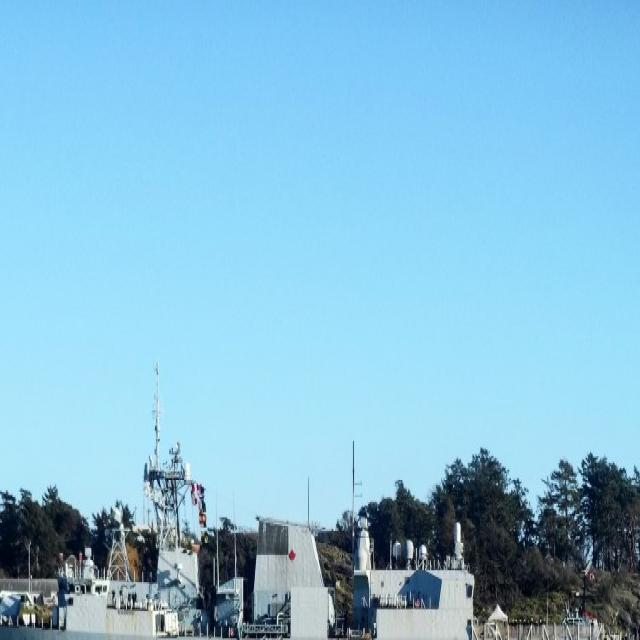Fragata: (1, 377, 640, 640)
